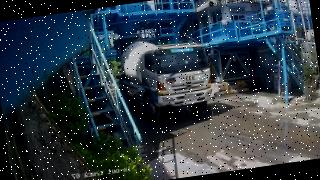cement_mixer_truck: (115, 41, 213, 122)
